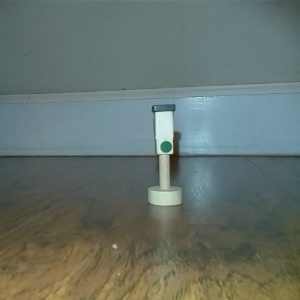traffic light green: (145, 101, 184, 211)
